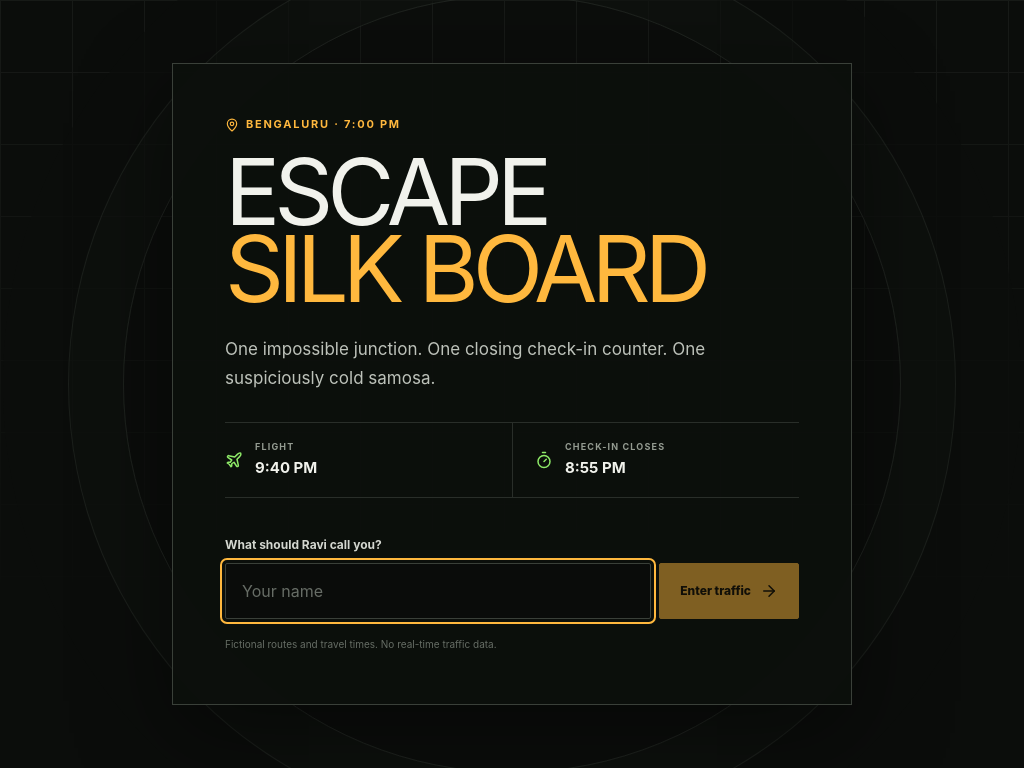
Scenario: Escape Silk Board app › preserves the session and displays a recoverable API error
Expected: the heading is shown, [225,136,705,324]
Type "Maya" into the field labelled "What should Ravi call you?" at x=438, y=591, box [225,563,651,619]
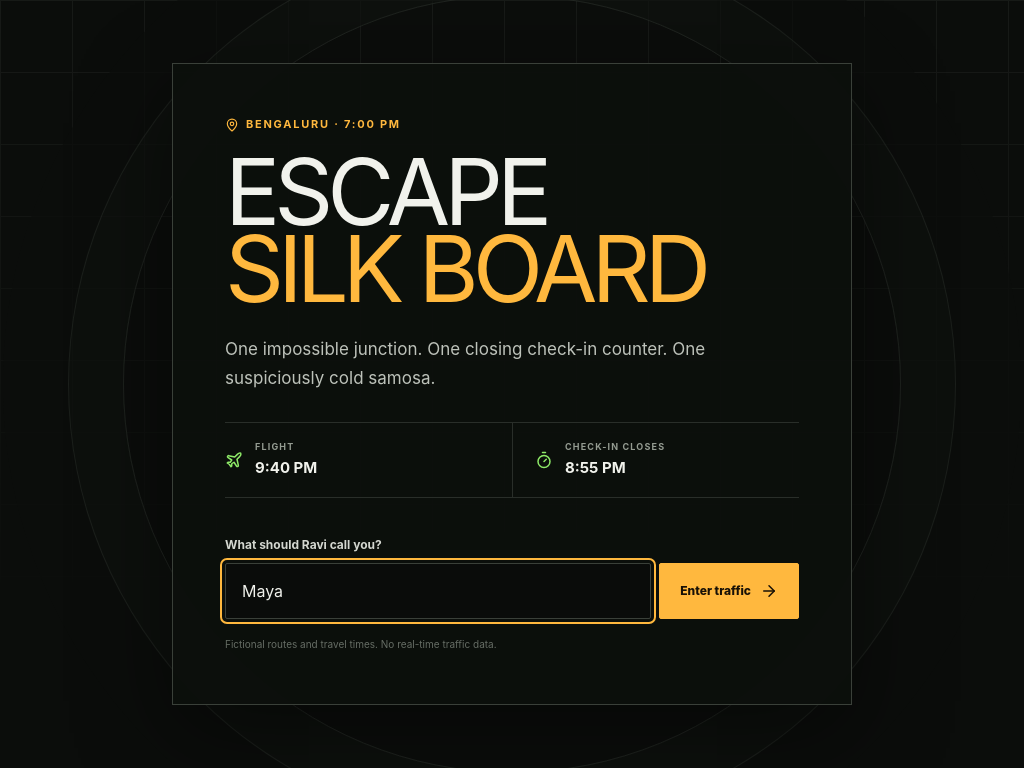
Click the button "Enter traffic" at x=729, y=591, box [659,563,799,619]
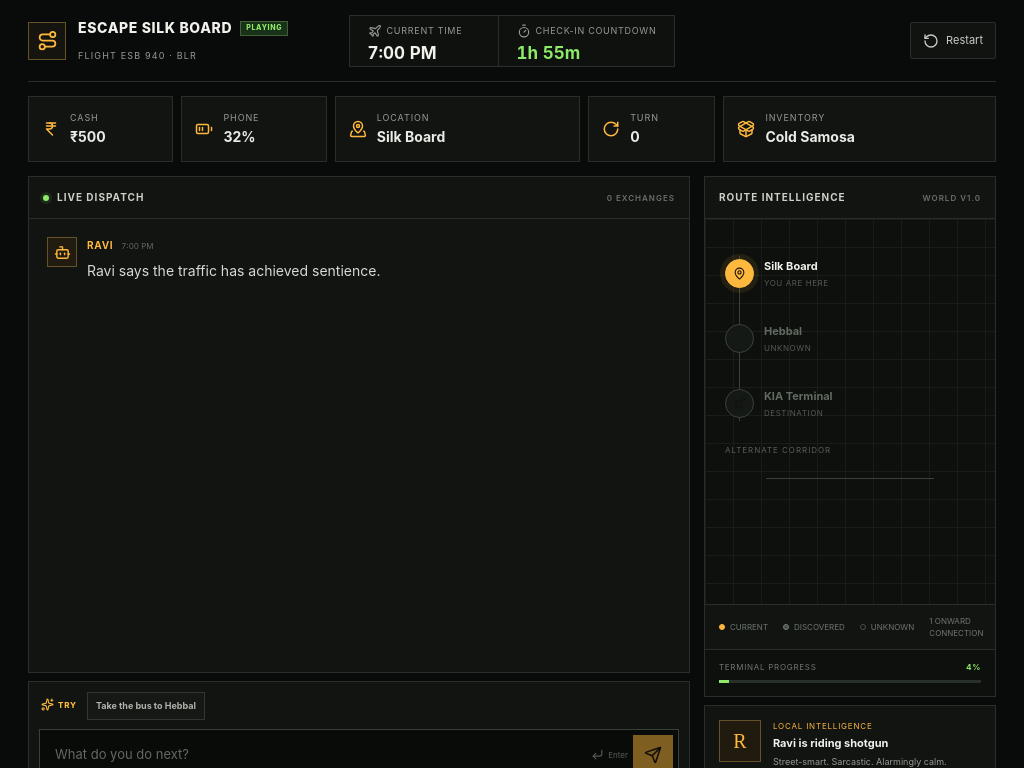
Expected: the text "₹500" is shown, [70,126,106,147]
Type "Look around" into the field labelled "What do you do next?" at x=316, y=755, box [40,745,591,764]
(page scrolled)
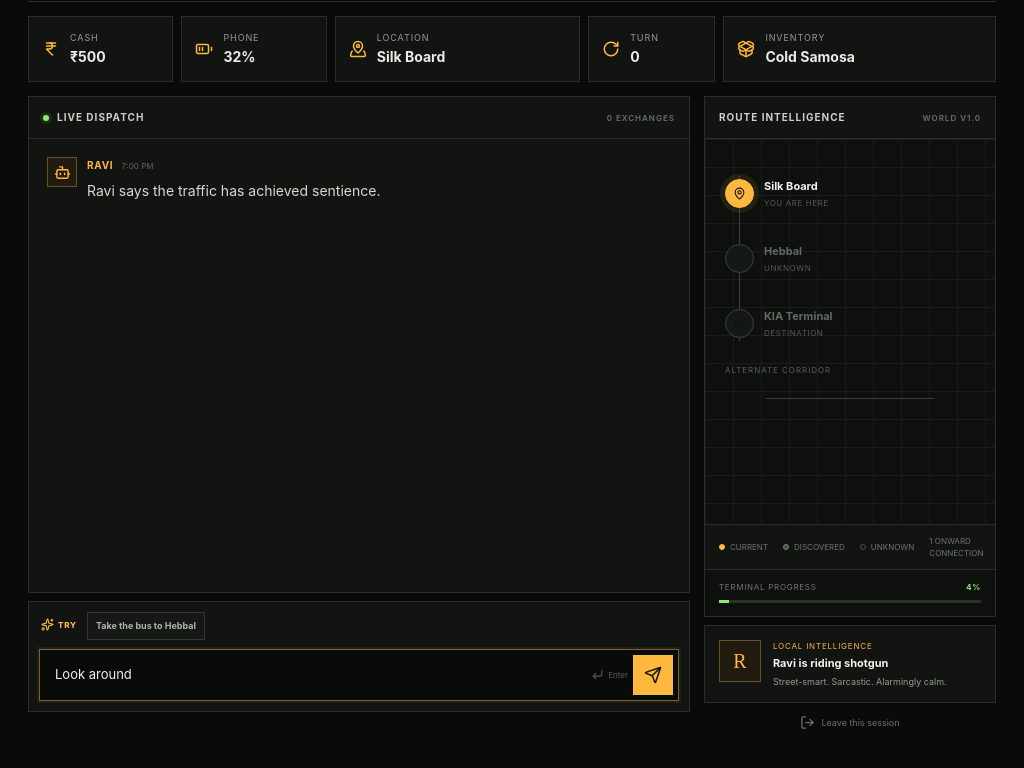
Click the button named "submit action" at x=653, y=674, box [633,654,673,694]
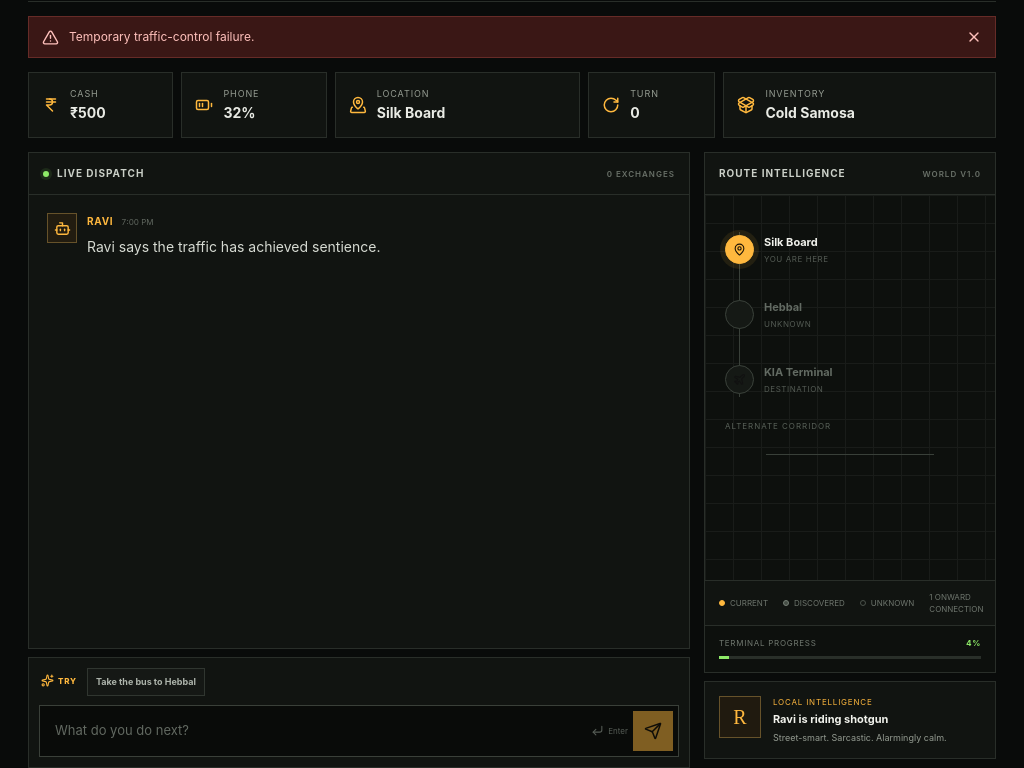
Expected: the text "₹500" is shown, [70,102,106,123]
Expected: the message shows "Temporary traffic-control failure", [69,29,254,44]
